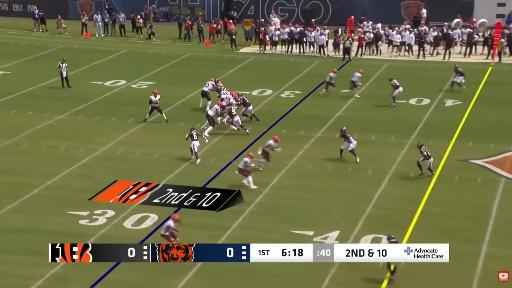Helmet: (171, 214, 179, 221), (247, 152, 254, 159), (272, 136, 279, 141), (387, 234, 394, 239), (341, 127, 346, 133), (233, 93, 238, 99), (417, 143, 423, 148), (152, 89, 158, 94), (217, 101, 222, 106), (231, 92, 236, 97), (358, 69, 363, 74), (190, 127, 195, 131), (332, 69, 337, 73), (238, 93, 243, 97), (210, 78, 214, 82), (390, 77, 394, 81), (215, 79, 219, 83), (226, 89, 230, 91)
Jersey: (162, 220, 175, 234), (419, 147, 432, 160), (238, 158, 252, 170), (341, 131, 355, 143), (263, 140, 277, 151), (208, 105, 221, 116), (186, 131, 199, 142), (239, 96, 251, 107), (227, 106, 237, 119), (223, 98, 236, 107), (150, 95, 160, 106), (351, 72, 362, 82), (203, 82, 215, 91), (220, 91, 232, 100), (391, 79, 400, 90), (326, 73, 336, 82), (455, 68, 465, 77), (388, 239, 399, 243)
Player: (186, 128, 208, 163), (258, 136, 280, 170), (144, 90, 167, 122), (237, 153, 257, 189), (202, 102, 222, 137), (340, 128, 359, 162), (227, 107, 249, 135), (238, 94, 259, 121), (341, 70, 362, 97), (417, 143, 434, 175), (161, 214, 179, 243), (200, 79, 215, 110), (320, 69, 337, 95), (390, 77, 403, 107), (451, 65, 465, 90), (223, 92, 237, 110), (388, 263, 399, 281), (218, 89, 232, 101), (214, 79, 225, 94)
